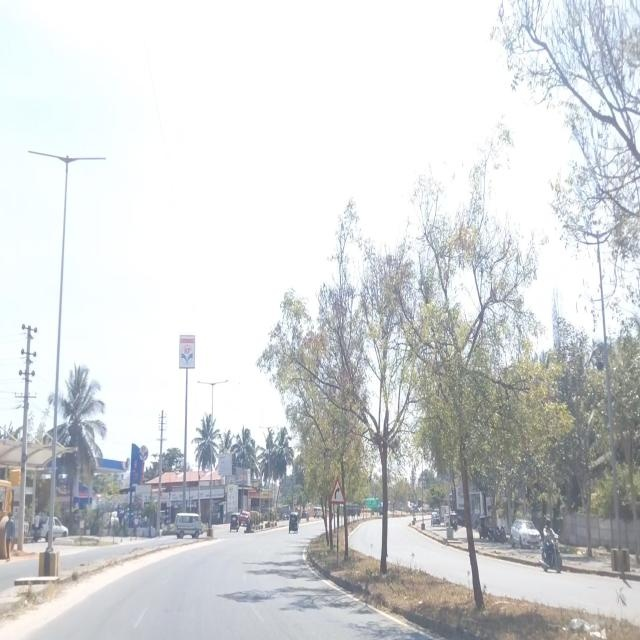bien_nguy_hiem: (330, 476, 345, 504)
